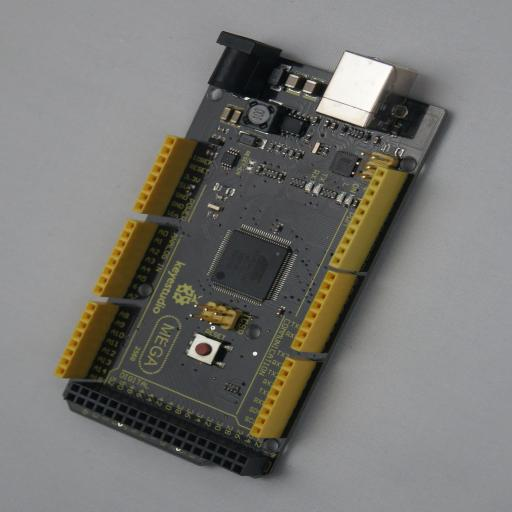Arduino Mega 2560 -Black and Yellow-: (60, 31, 454, 480)
